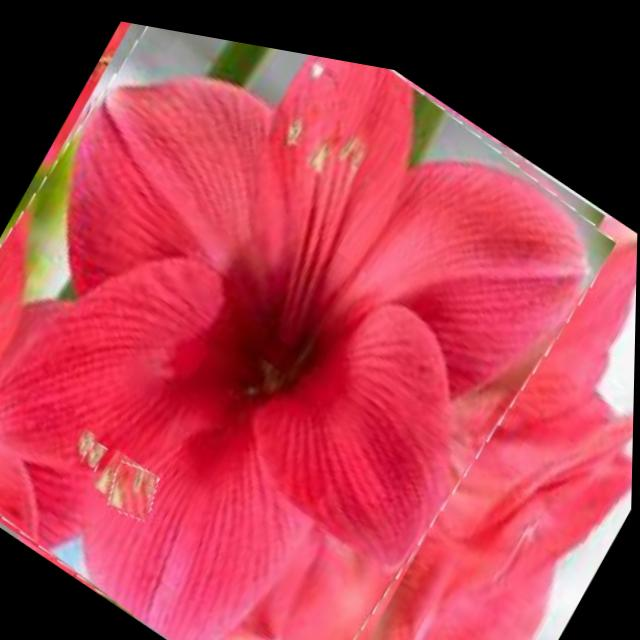Flower: (102, 447, 167, 524), (82, 435, 110, 470)
